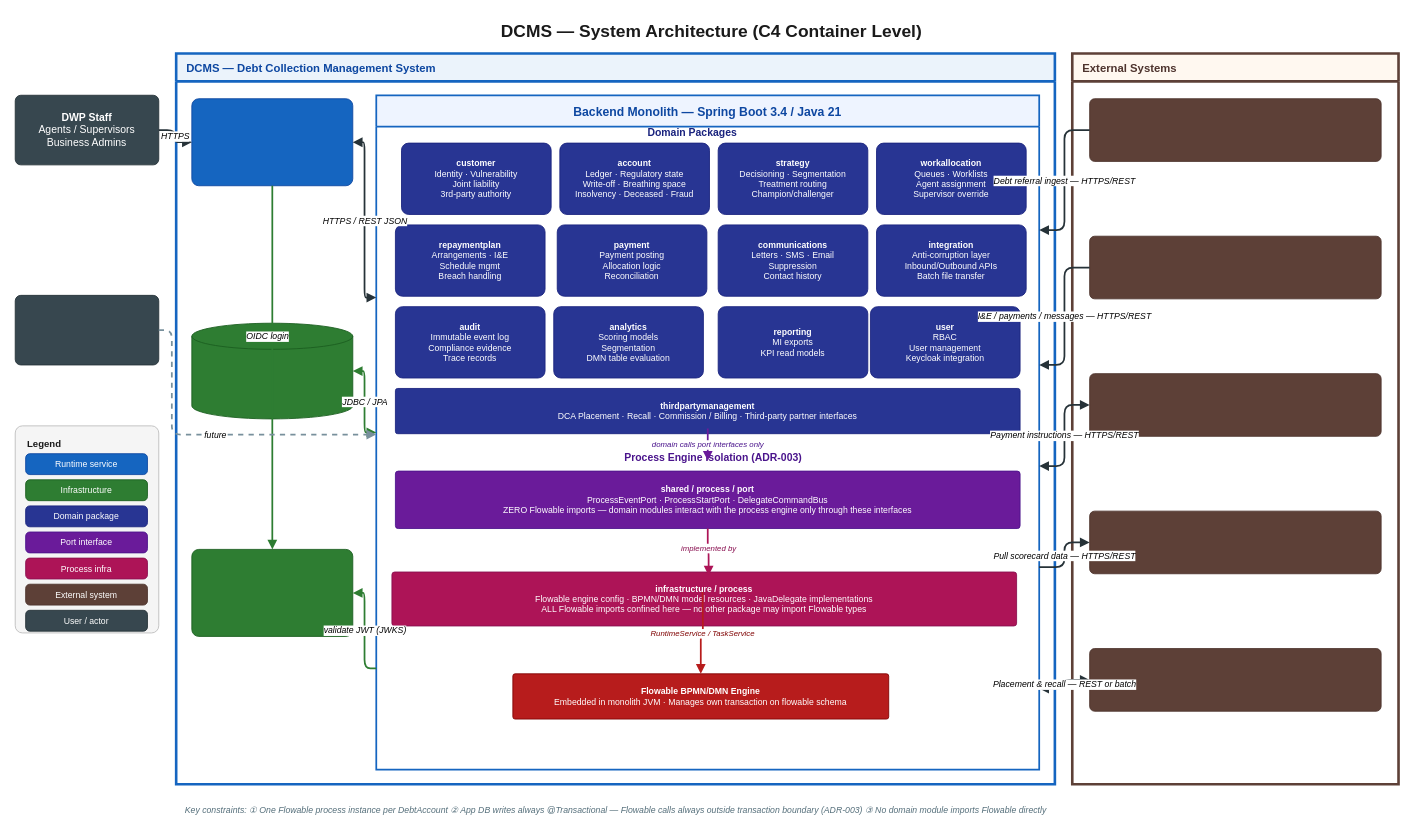
Image size: 1415x835. Some labels were removed from this diagram. The centre of each missing label's shape, as x and y in pixels:
"Credit Reference Agency Bureau scorecard and CRA feeds" belongs at (1235,542).
"Database PostgreSQL 16 public schema (app) flowable schema (engine)" belongs at (272,370).
"Debt Collection Agents (DCA) DCA placement, recall & reconciliation" belongs at (1235,679).
"DWP Customer Via self-service portal (future)" belongs at (86,329).
"DWP Place / DM6 Debt referral source system" belongs at (1235,129).
"DWP Self-Service Portal Customer portal (inbound API only)" belongs at (1235,267).
"Frontend React + TypeScript Nginx 1.27-alpine GOV.UK Design System" belongs at (272,142).
"Identity Provider Keycloak 24 OAuth 2.0 + OIDC RBAC via JWT claims" belongs at (272,592).
"Payment Gateway Direct debit & card payment processing" belongs at (1235,404).
